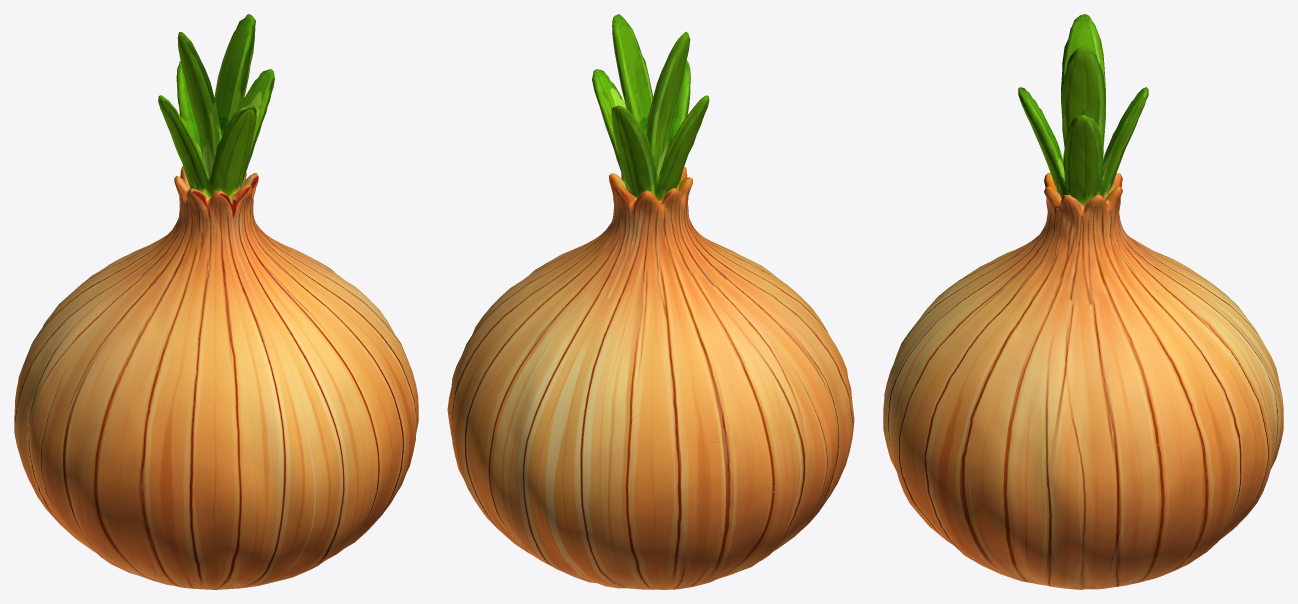
File: Onion.fbx
3 views of the same model, side by side, from view 1: azimuth 30°, elevation 25°; view 2: azimuth 150°, elevation 25°; view 3: azimuth 270°, elevation 25° (orthographic).
Visible parts, largest first — view 1: Mesh_0.005; view 2: Mesh_0.005; view 3: Mesh_0.005.
Boxes of the visible parts, x1,y1,x2,y2 form: Mesh_0.005: (14,14,418,589); Mesh_0.005: (447,14,854,589); Mesh_0.005: (883,14,1283,589).
Bounding box in the file's own units: 25.75 × 38.12 × 25.75.
Materials: 1 (1 with a texture image).
